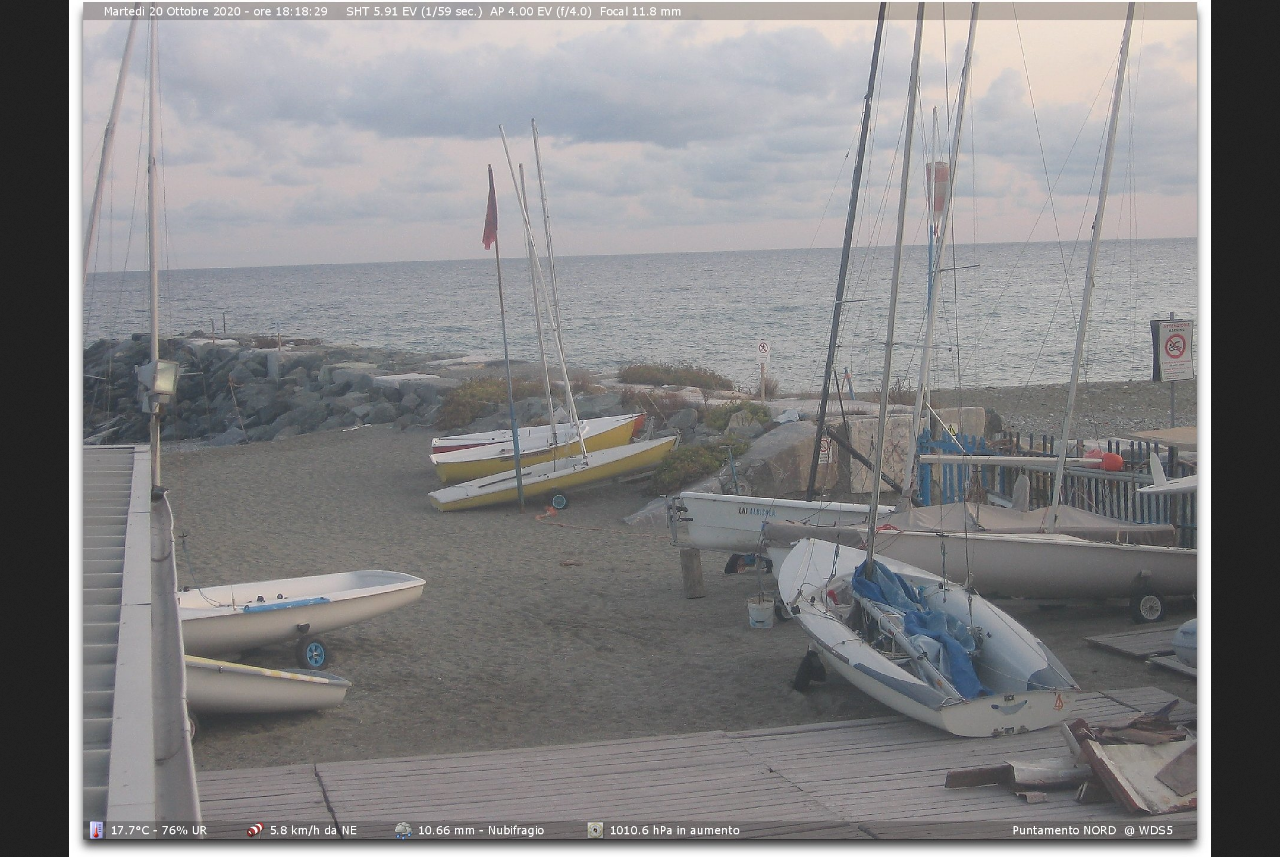no: (477, 162, 502, 257)
